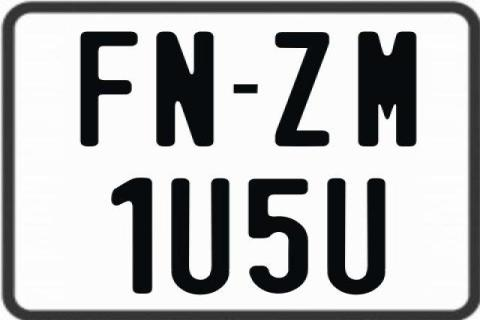0: (246, 178, 310, 296), (108, 178, 152, 294)
F: (77, 30, 136, 148)
M: (356, 32, 420, 150)
N: (156, 30, 217, 146)
U: (326, 176, 389, 292), (168, 178, 230, 294)
Z: (272, 32, 331, 150)
